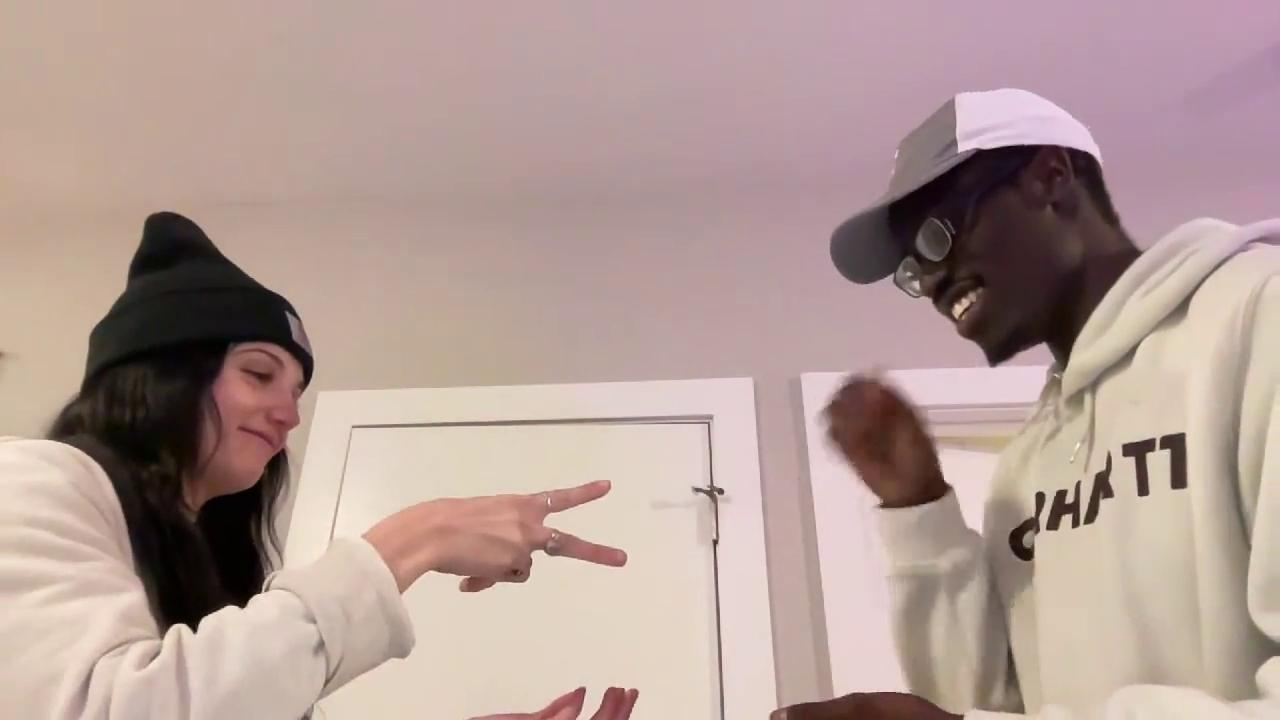Rock: (821, 369, 934, 501)
Scissors: (392, 477, 632, 593)
